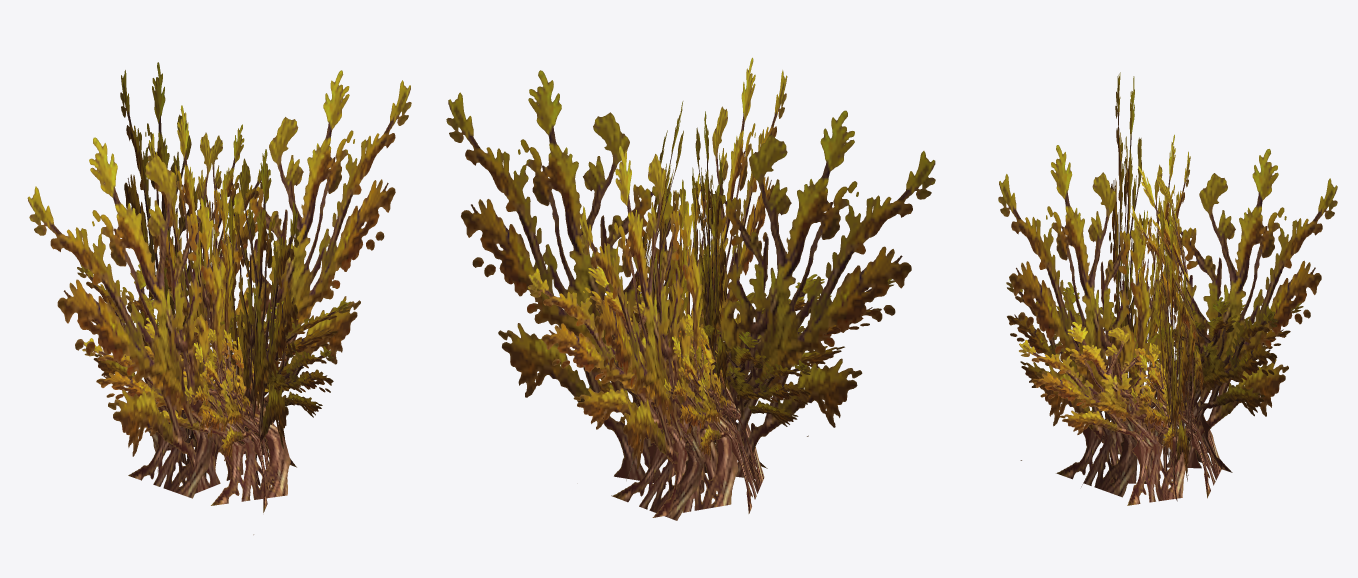
Rendered from redridgebush02.obj.
3 views of the same model, side by side, from view 1: azimuth 30°, elevation 25°; view 2: azimuth 150°, elevation 25°; view 3: azimuth 270°, elevation 25° (orthographic). The views are drawn at different scales.
Bounding box in the file's own units: 6.35 × 5.6 × 5.14.
1 material, 1 textured.
